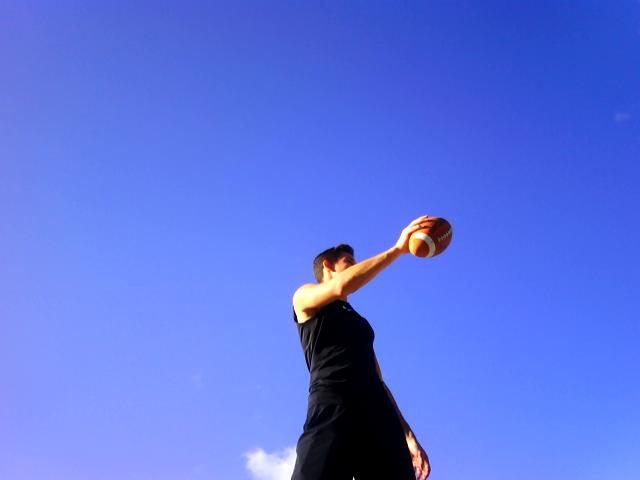footbal: (408, 216, 454, 258)
